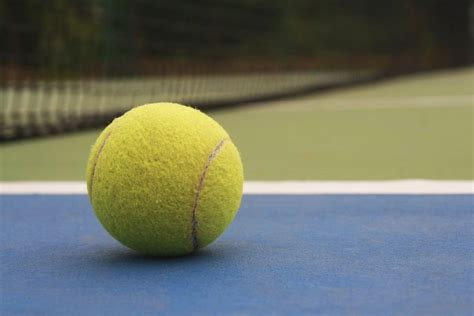tennis_ball: (86, 101, 243, 257)
